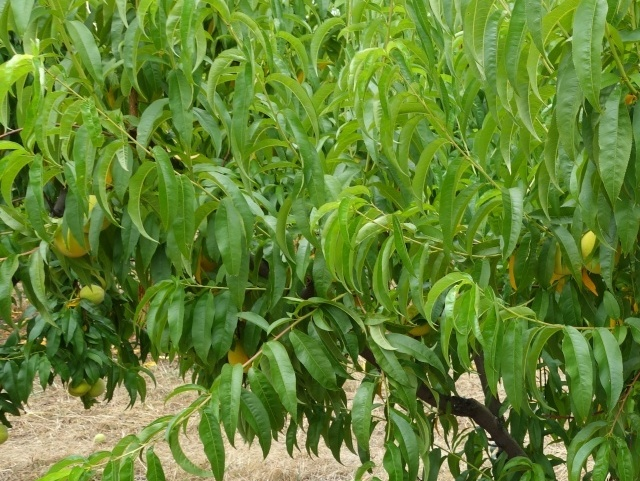peach: (577, 227, 619, 276), (47, 222, 96, 259), (225, 343, 260, 374), (77, 282, 107, 309), (66, 374, 92, 404), (87, 373, 108, 398)
